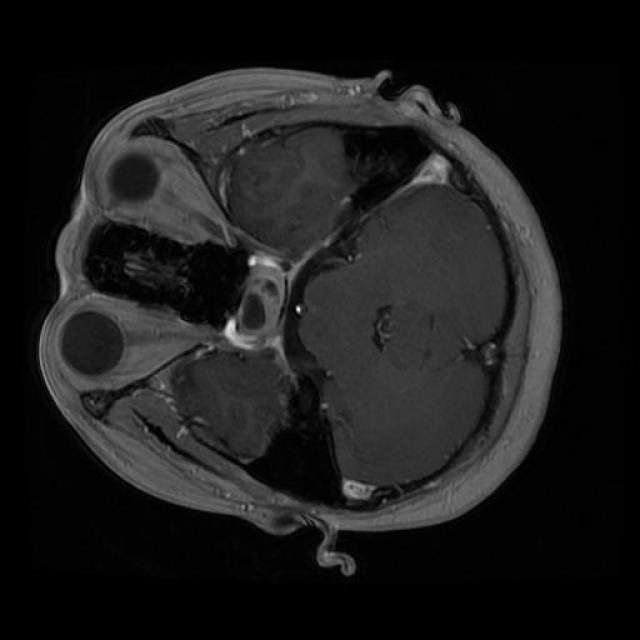Pituitary: (224, 255, 286, 350)
